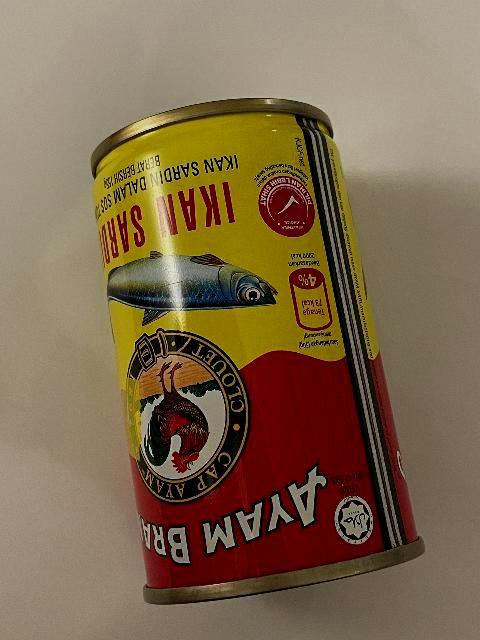foodcan: (89, 96, 428, 606)
